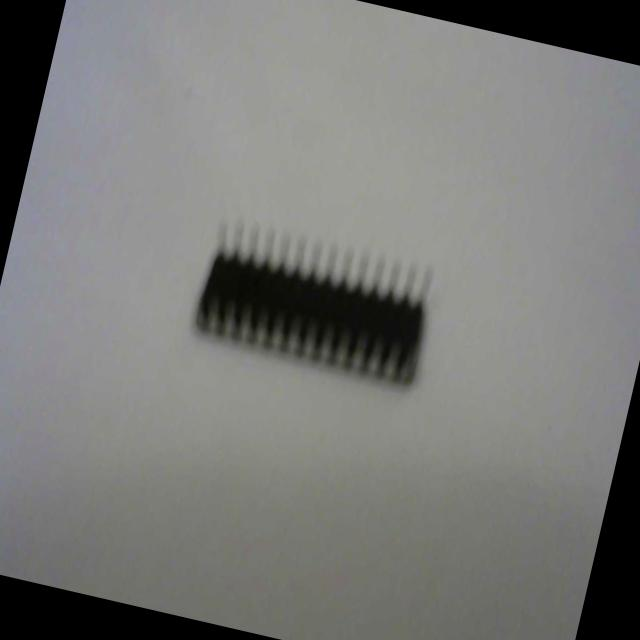atmega: (185, 205, 445, 396)
